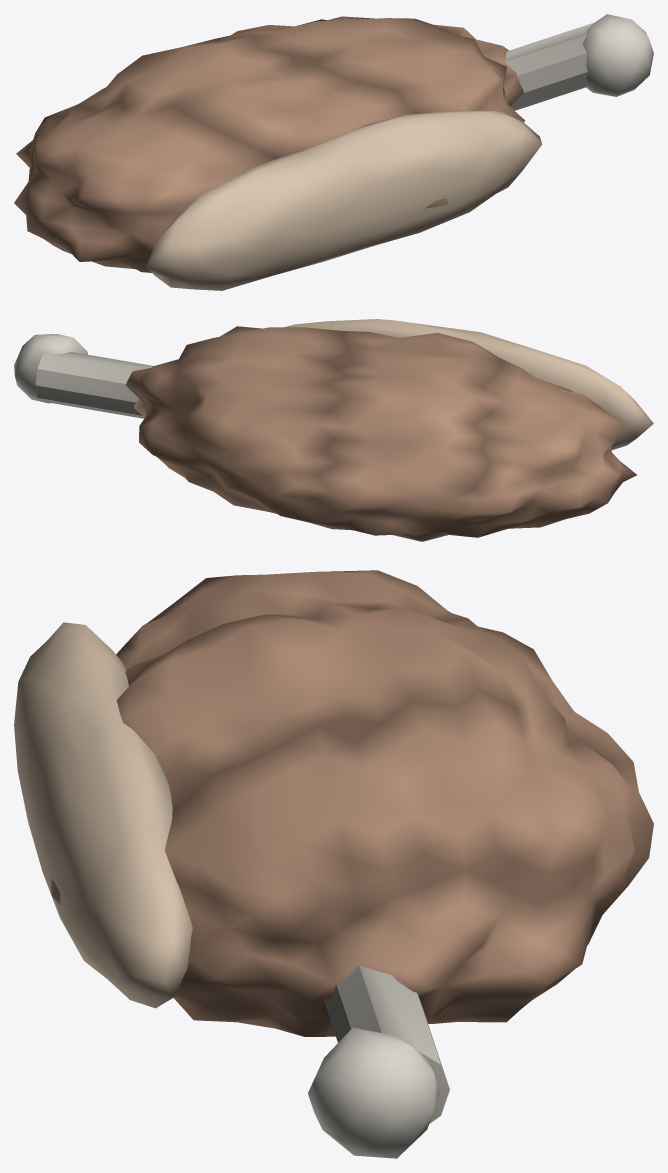
The model's file is cooked-bear-meat.glb.
3 renders of one model, top to bottom at view 1: azimuth 30°, elevation 25°; view 2: azimuth 150°, elevation 25°; view 3: azimuth 270°, elevation 25°, orthographic. The views are drawn at different scales.
Parts seen in each view (by area): view 1: Body_lod0; view 2: Body_lod0; view 3: Body_lod0.
Part boxes in pixels (x1,y1,x2,y2): Body_lod0: (14, 14, 653, 290); Body_lod0: (14, 319, 653, 541); Body_lod0: (14, 570, 653, 1158).
Size of what is drawn, in the model's own units: 0.2358 by 0.0458 by 0.1299.
